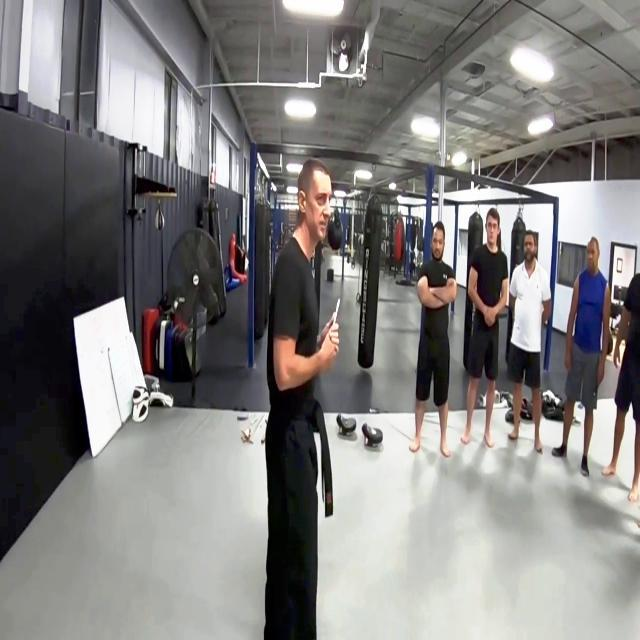Knife: (328, 286, 350, 346)
